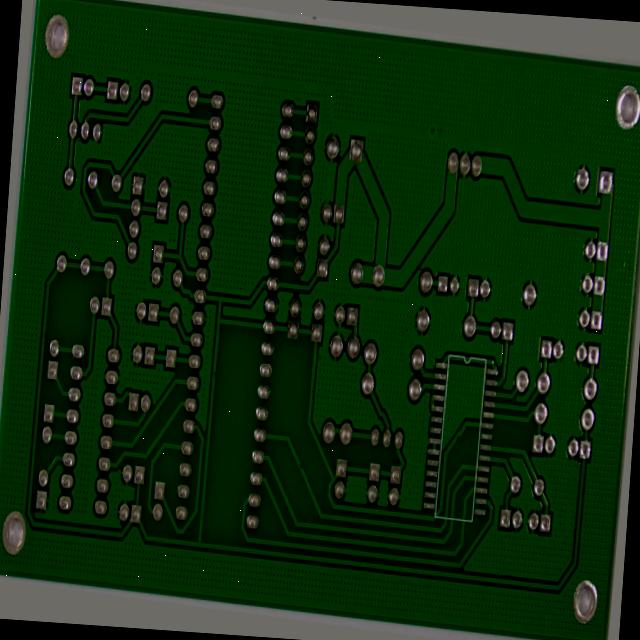mouse_bite: (297, 468, 308, 487), (458, 426, 468, 444), (208, 376, 218, 391)
